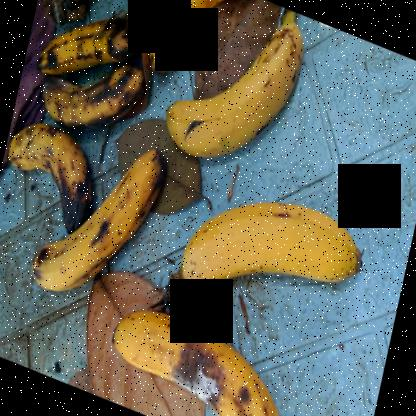freshripe: (172, 177, 366, 308)
ripe: (159, 5, 314, 160), (16, 148, 170, 296)
rotten: (105, 307, 283, 415), (2, 120, 91, 227), (25, 60, 141, 137), (25, 11, 139, 86), (141, 0, 252, 64)
